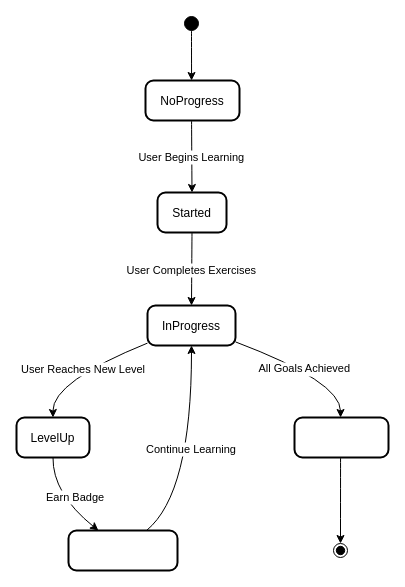
Image size: 405x587. Some labels were removed from this diagram. The shapes that lost their labels are listed below. From the top down, each one's centre as x and y in pixels, then its label:
(341,437): Completed
(122,550): BadgeEarned
